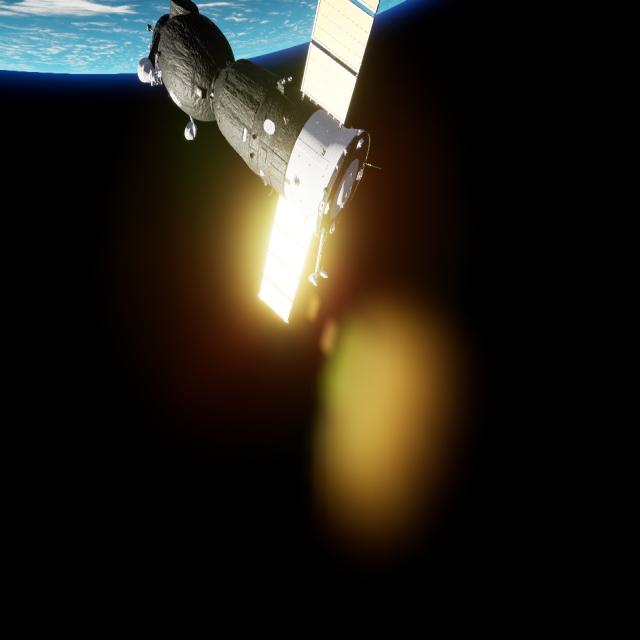Satellites revolving around earth: (138, 1, 382, 326)
